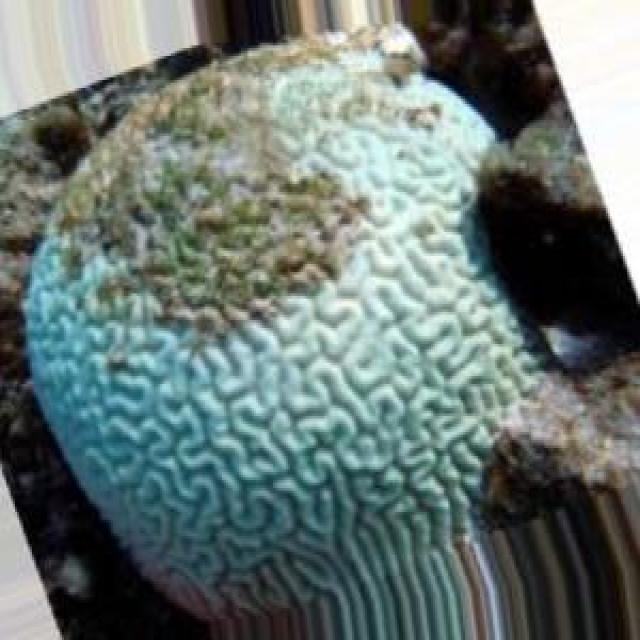Bleached: (24, 28, 536, 614)
